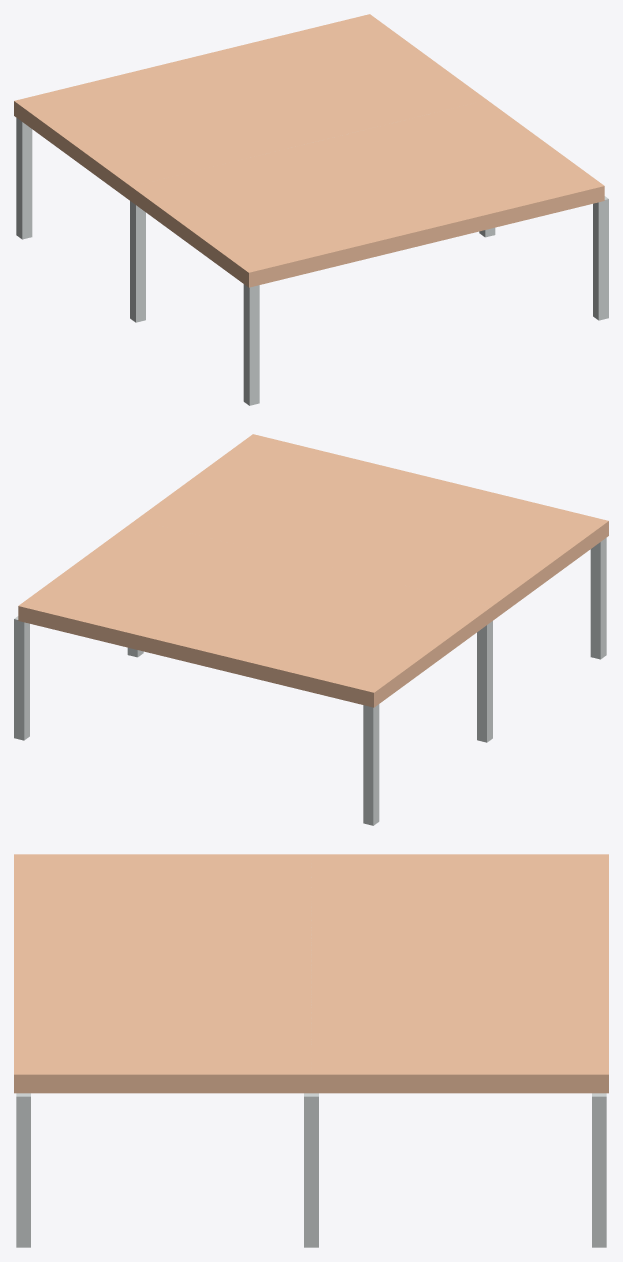
Rendered from desk-row-m1.glb.
The picture shows the model from 3 angles, top to bottom: view 1: azimuth 30°, elevation 25°; view 2: azimuth 150°, elevation 25°; view 3: azimuth 270°, elevation 25°; orthographic projection. The views are drawn at different scales.
Parts seen in each view (by area): view 1: desktop, shared-corner-leg (×4); view 2: desktop, shared-corner-leg (×4); view 3: desktop, shared-corner-leg (×3).
Boxes of the visible parts, <box> form: desktop: <box>14,14,604,287</box>; shared-corner-leg (×4): <box>16,118,608,405</box>; desktop: <box>18,434,608,707</box>; shared-corner-leg (×4): <box>14,538,606,825</box>; desktop: <box>14,854,608,1093</box>; shared-corner-leg (×3): <box>16,1093,606,1247</box>.
Size of the model in its own units: 3.55 by 1.26 by 4.
Materials: 1 (1 with a texture image).
